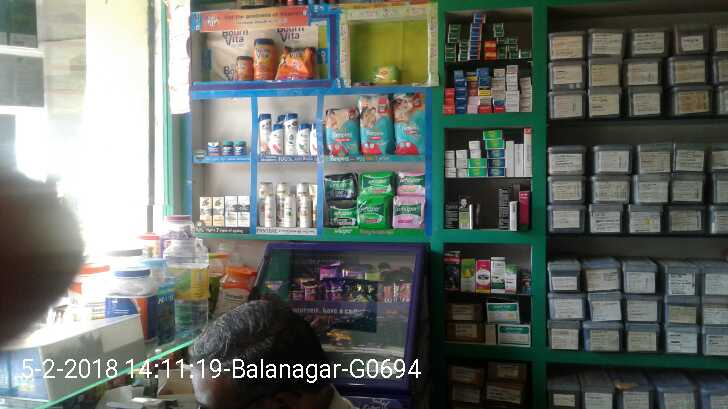vicks: (199, 133, 252, 161)
